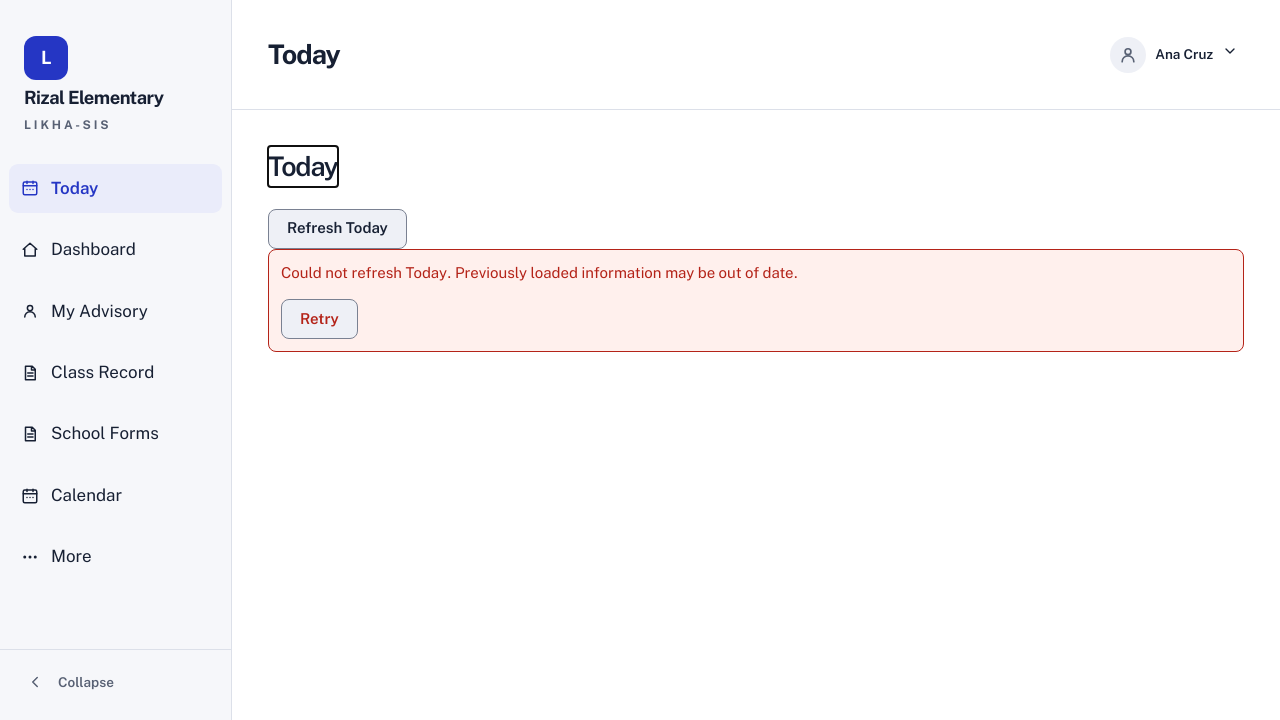
App › keeps authorized assigned classes available from Dashboard
Step 1. Click the button "Dashboard" → point(116, 250), box [9,225,222,275]
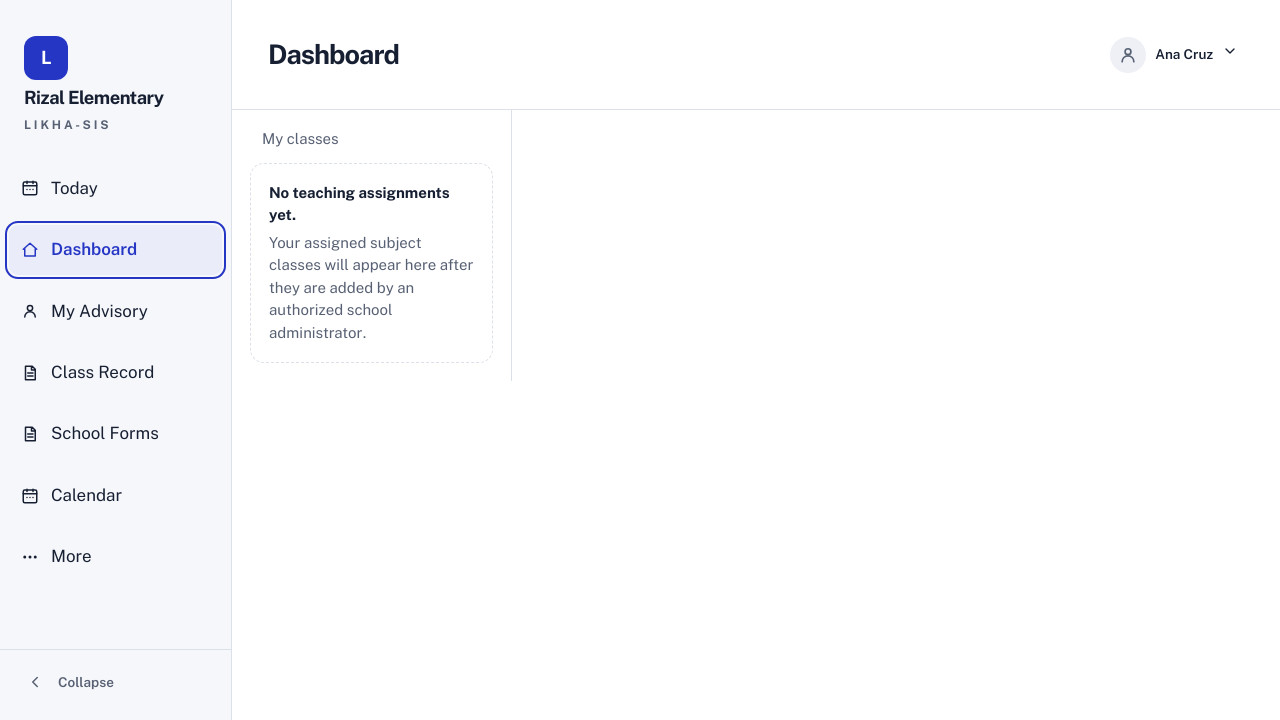
Expected: the text "Rizal Elementary" is shown, [24,86,163,110]
Result: the heading "My classes" is shown at [262,130,339,147]
Result: the heading "No teaching assignments yet." is shown at [269,182,474,226]
